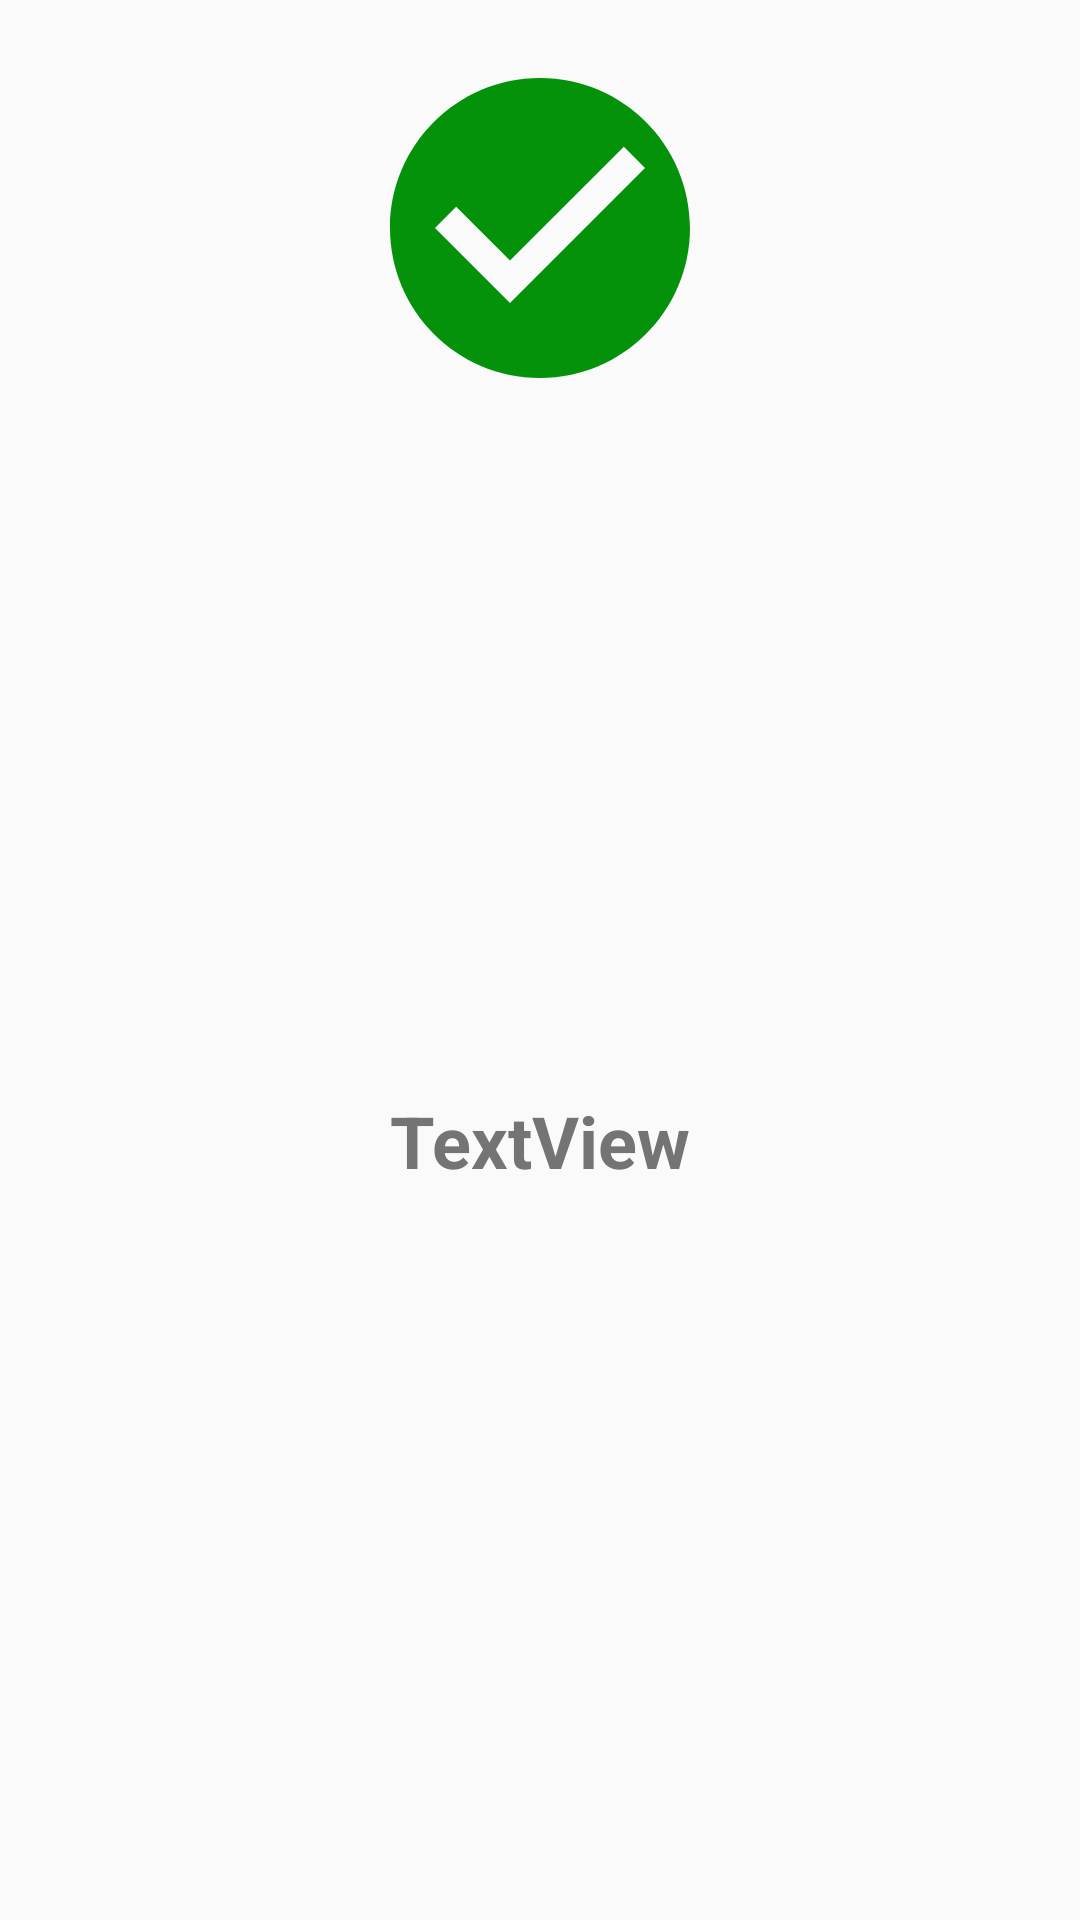

Icon click points for this 1080*1920 phone screenshot, format point (x, y):
check circle: point (540, 228)
